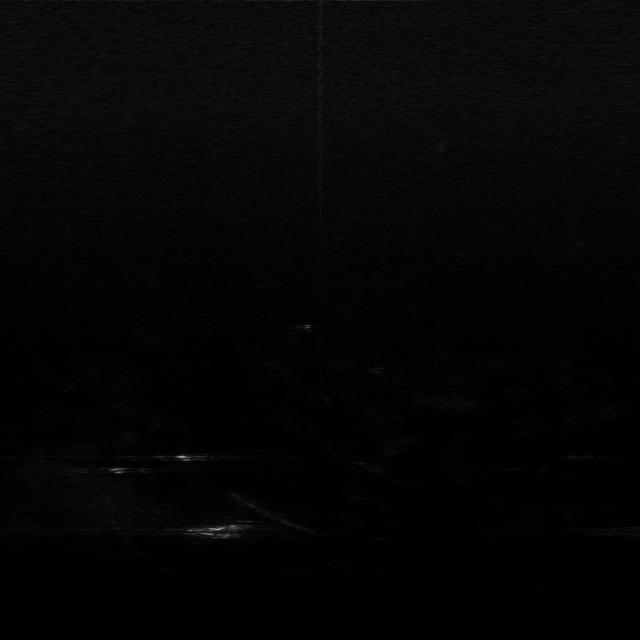rov: (190, 520, 242, 541)
